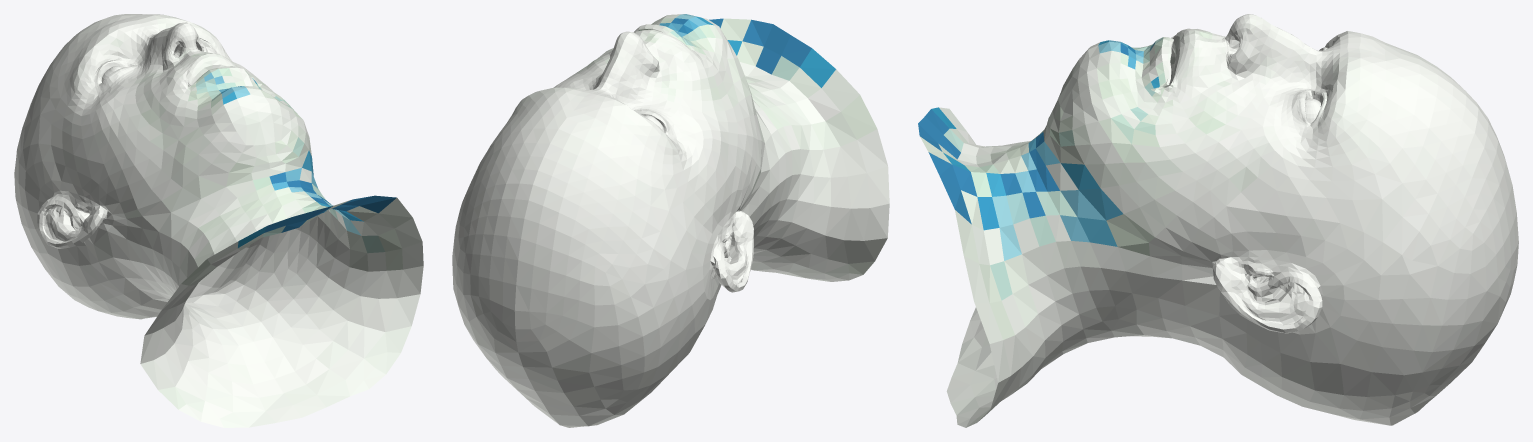
Rendered from comaspiralconv_0.glb.
The picture shows the model from 3 angles, left to right: view 1: azimuth 30°, elevation 25°; view 2: azimuth 150°, elevation 25°; view 3: azimuth 270°, elevation 25°; orthographic projection. The views are drawn at different scales.
Parts seen in each view (by area): view 1: imagetostl_mesh0; view 2: imagetostl_mesh0; view 3: imagetostl_mesh0.
Part boxes in pixels (box(x1,y1,x2,y2)): imagetostl_mesh0: box(14, 14, 423, 427); imagetostl_mesh0: box(452, 14, 889, 427); imagetostl_mesh0: box(918, 14, 1518, 427).
Bounding box in the file's own units: 219 × 248 × 328.
